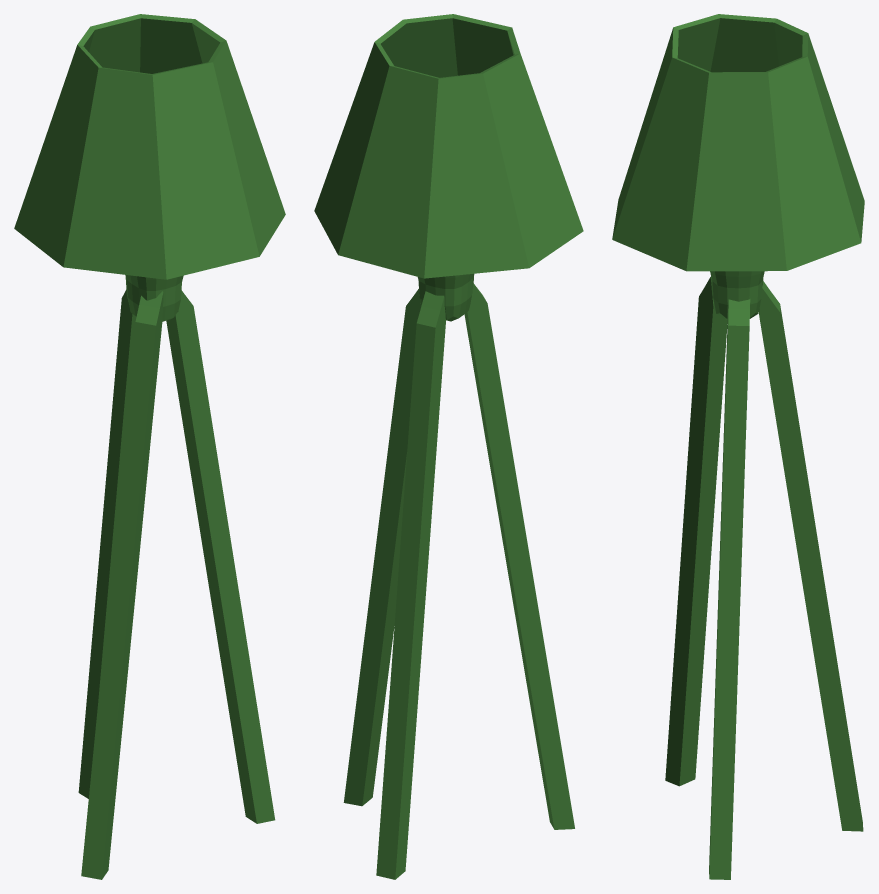
Rendered from Office_Lamp.fbx.
The picture shows the model from 3 angles, left to right: view 1: azimuth 30°, elevation 25°; view 2: azimuth 150°, elevation 25°; view 3: azimuth 270°, elevation 25°; orthographic projection.
Parts seen in each view (by area): view 1: Office_Lamp; view 2: Office_Lamp; view 3: Office_Lamp.
Part boxes in pixels (bbox=[...]): Office_Lamp: bbox=[14, 14, 285, 879]; Office_Lamp: bbox=[314, 14, 583, 879]; Office_Lamp: bbox=[612, 14, 864, 879].
Bounding box in the file's own units: 85.71 × 292 × 85.23.
